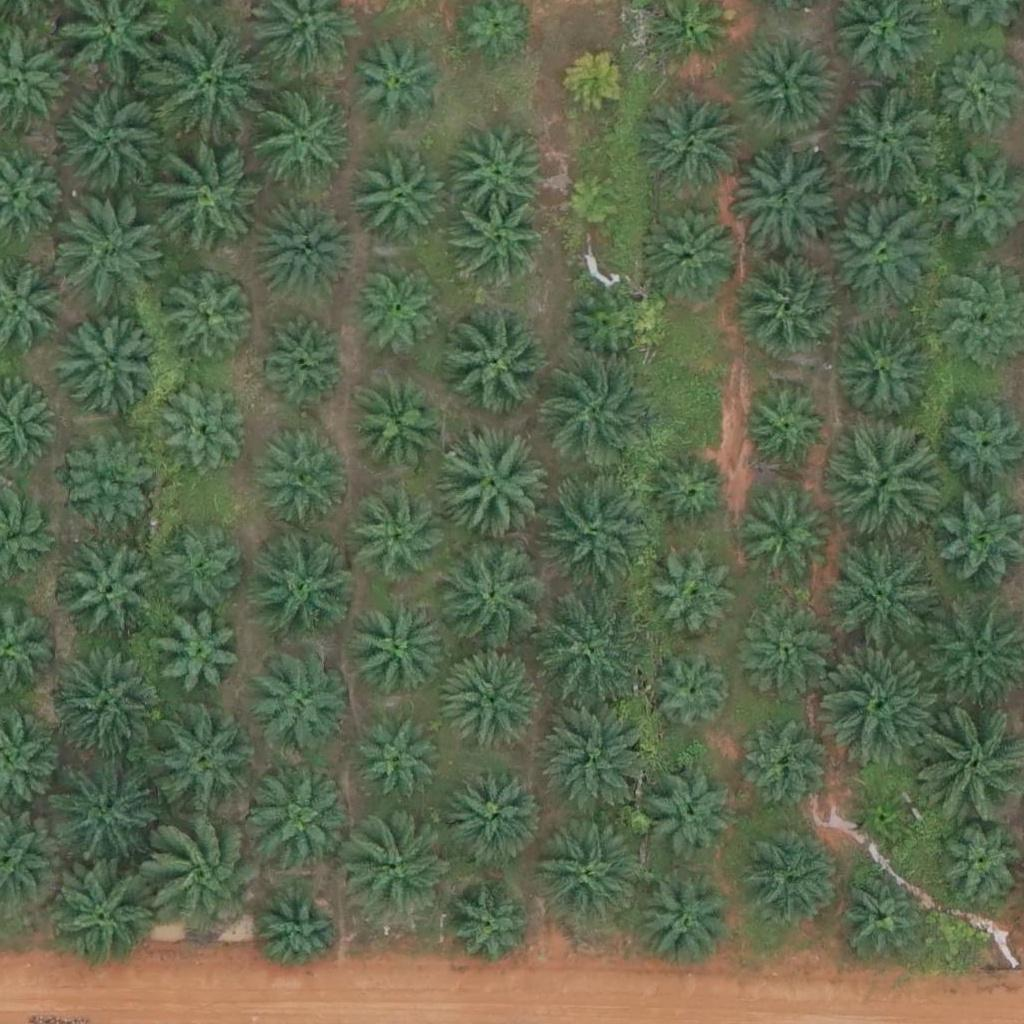Kelapa_Sawit: (144, 816, 269, 942), (828, 199, 941, 313), (635, 83, 748, 197), (542, 476, 655, 590), (439, 304, 552, 418), (831, 81, 944, 194), (828, 418, 941, 531), (733, 149, 846, 262), (432, 432, 545, 545), (54, 84, 167, 197), (48, 653, 161, 766), (48, 754, 161, 867), (44, 861, 157, 974), (151, 31, 264, 144), (530, 817, 642, 931), (53, 201, 165, 315), (827, 539, 939, 652), (824, 650, 936, 763), (545, 355, 657, 468), (533, 595, 645, 708), (541, 707, 653, 820), (435, 539, 547, 652), (345, 813, 457, 926), (147, 140, 259, 253), (144, 705, 256, 818), (834, 319, 934, 420), (734, 36, 834, 137), (747, 259, 847, 360), (741, 830, 841, 931), (648, 200, 748, 301), (635, 874, 735, 975), (448, 120, 548, 221), (446, 765, 546, 866), (342, 33, 442, 134), (349, 149, 449, 250), (349, 373, 449, 474), (351, 490, 451, 591), (347, 601, 447, 702), (255, 89, 355, 190), (252, 422, 352, 523), (251, 541, 351, 642), (248, 650, 348, 751), (160, 262, 260, 363), (60, 317, 160, 418), (64, 546, 164, 647), (445, 648, 545, 748), (251, 204, 351, 304), (253, 773, 353, 873), (56, 429, 156, 529), (352, 271, 440, 360), (742, 605, 830, 693), (651, 556, 739, 644), (647, 650, 735, 738), (565, 285, 653, 373), (457, 200, 545, 288), (447, 888, 535, 976), (257, 315, 345, 403), (839, 871, 926, 960), (743, 386, 830, 475), (359, 716, 446, 805), (747, 501, 834, 589), (740, 721, 827, 809), (646, 453, 733, 541), (647, 767, 734, 855), (254, 888, 341, 976), (158, 383, 245, 471), (158, 524, 245, 612), (155, 612, 242, 700), (559, 42, 634, 118), (855, 789, 918, 852), (564, 171, 626, 234)
